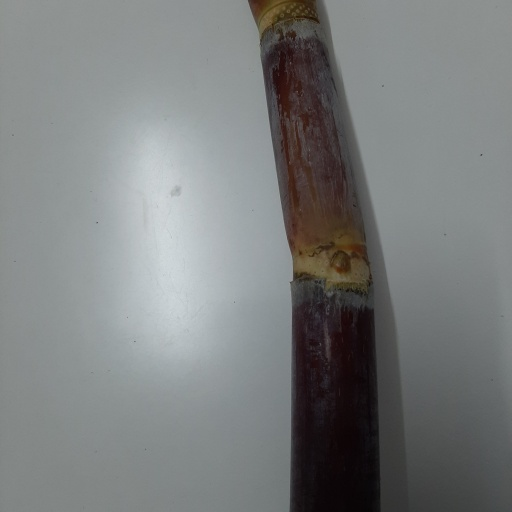Bud: (331, 250, 351, 274)
